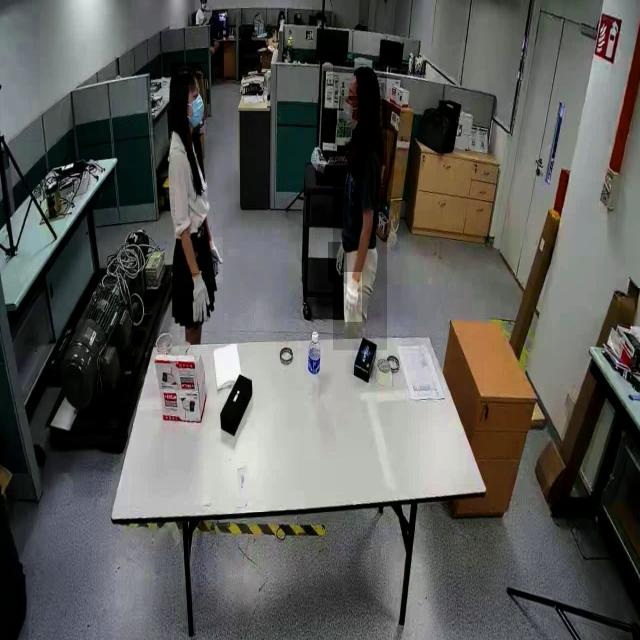face_mask: (339, 96, 368, 137), (189, 79, 205, 133)
hand_glove: (344, 272, 362, 323), (190, 273, 208, 323), (327, 242, 347, 284), (209, 238, 223, 284)
head_nohelmet: (170, 62, 200, 86), (352, 65, 382, 83), (279, 8, 285, 14)
person: (153, 60, 222, 344), (333, 62, 387, 351)
